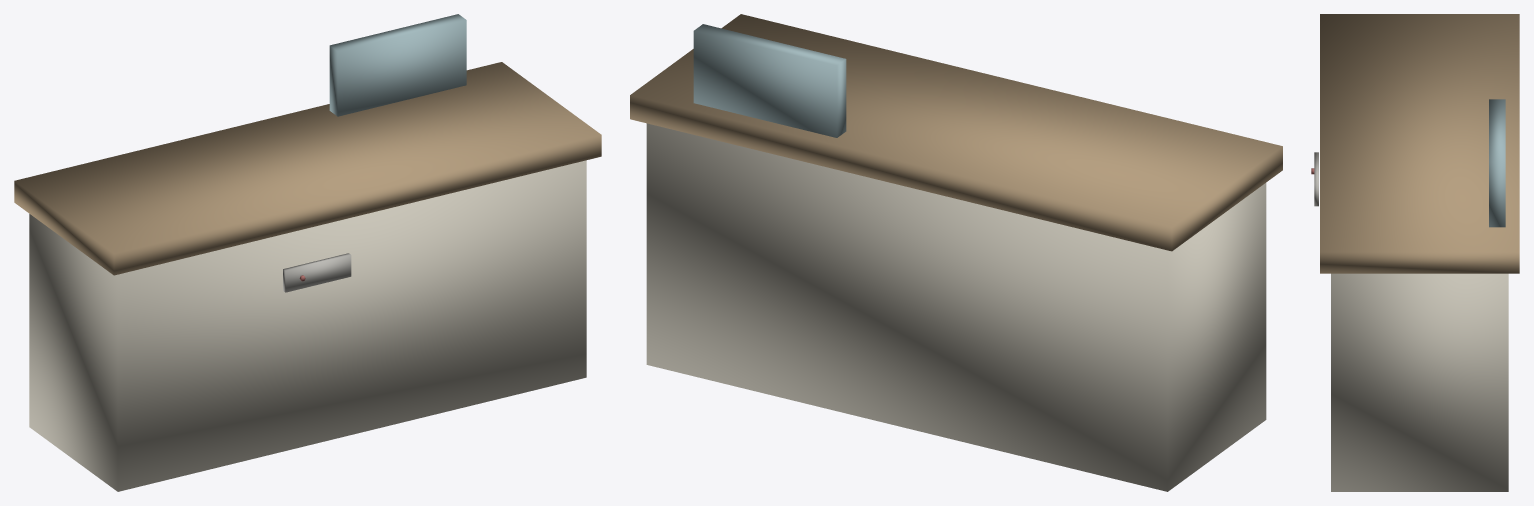
File: post_office_counter__compact.glb
3 views of the same model, side by side, from view 1: azimuth 30°, elevation 25°; view 2: azimuth 150°, elevation 25°; view 3: azimuth 270°, elevation 25° (orthographic). The views are drawn at different scales.
Parts seen in each view (by area): view 1: world; view 2: world; view 3: world.
Boxes of the visible parts, x1,y1,x2,y2 form: world: (14, 14, 601, 491); world: (630, 14, 1282, 491); world: (1311, 14, 1519, 491).
Size of the model in its own units: 1.75 by 1.06 by 0.6459.
